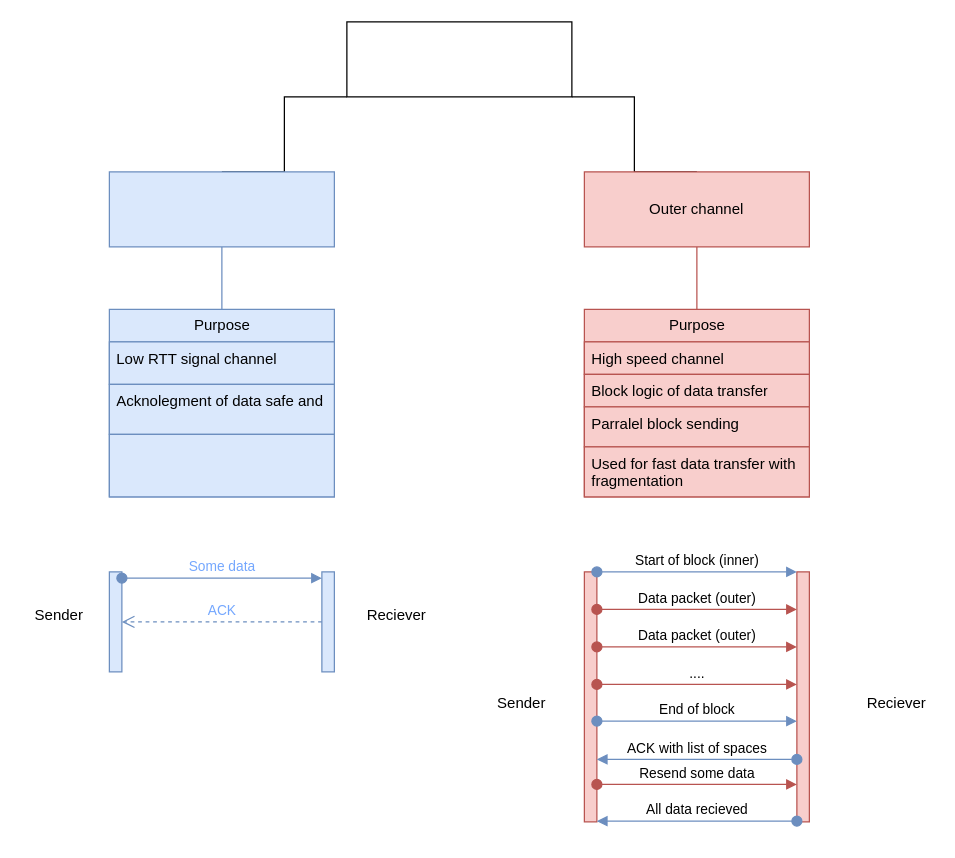
The diagram is 955 pixels wide and 858 high, and some of its shapes have lost their labels. The shapes that lost their labels are listed below. From the top down, each one's box as (x1, y1, x2, y2) in pixels, then its label:
(346, 21, 572, 97): Physical channel
(108, 171, 334, 247): Inner channel
(108, 433, 334, 497): Used for handshake and transfering stuff data
